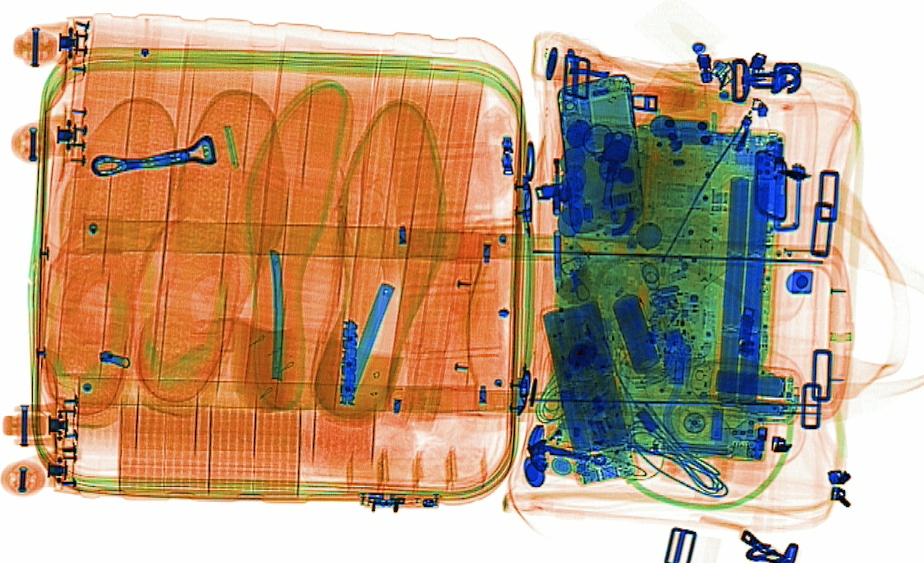powerbank: (545, 297, 643, 487)
